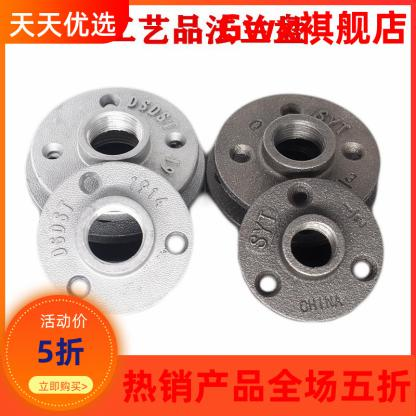FOD: (24, 83, 203, 241), (33, 158, 198, 318), (208, 89, 384, 233), (232, 175, 387, 328)
